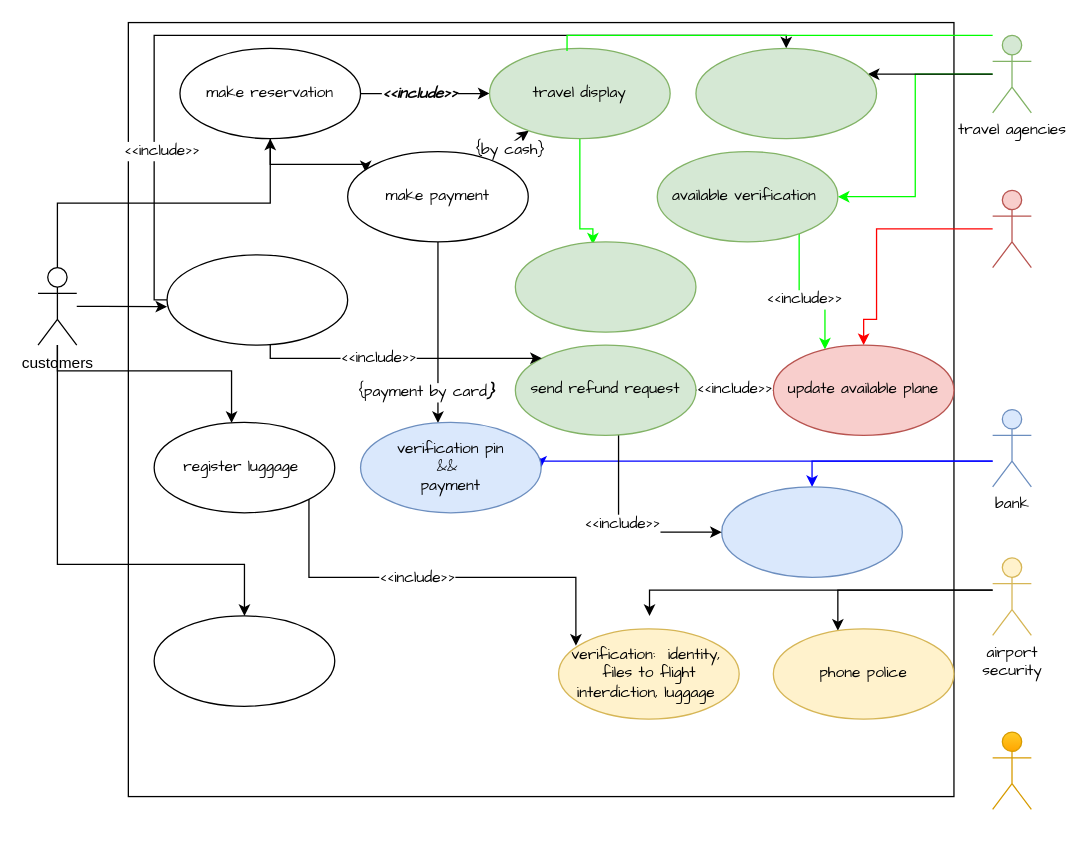
The diagram is 1089 pixels wide and 859 high, and some of its shapes have lost their labels. Here are the shapes that lost their labels. From the top down, the box of each, then its label:
(695, 47, 877, 139): canceled plate
(991, 189, 1031, 268): plane agencies
(166, 253, 348, 345): cancellation request
(514, 241, 696, 332): send travel folder
(720, 486, 902, 577): refund
(153, 615, 335, 706): up to plane
(991, 731, 1031, 809): plane
